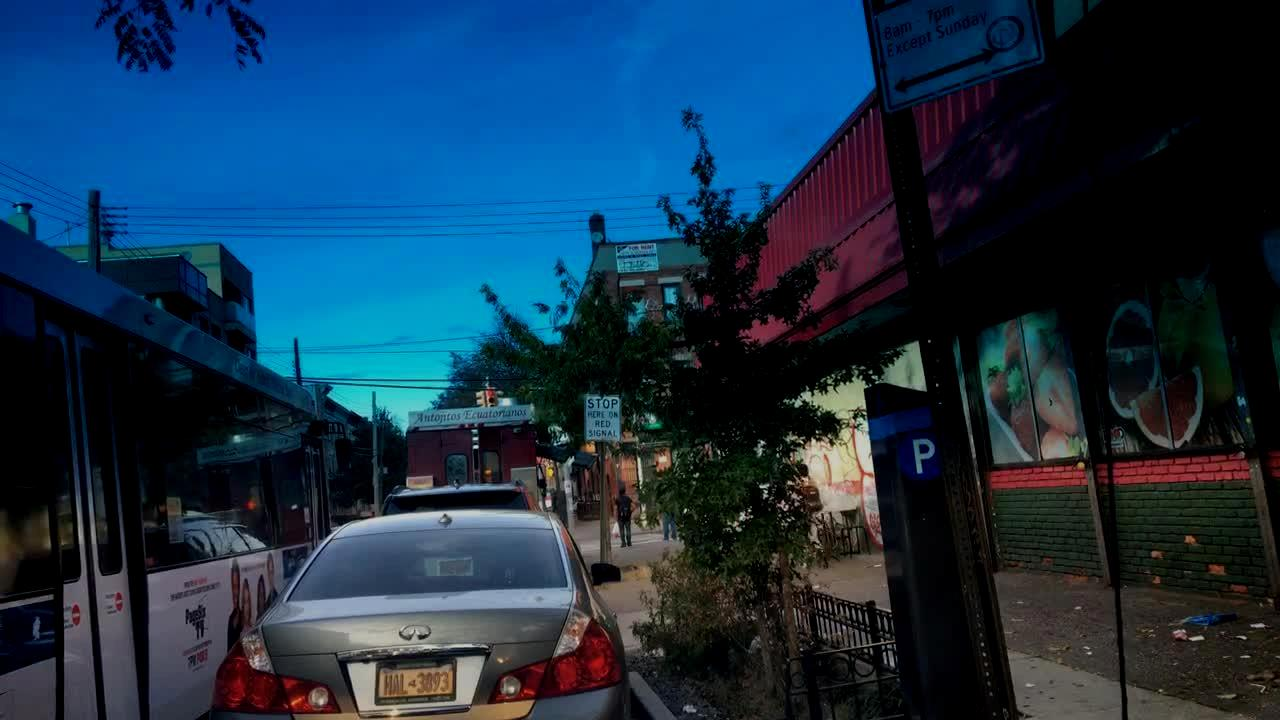Infiniti: (395, 621, 437, 647)
